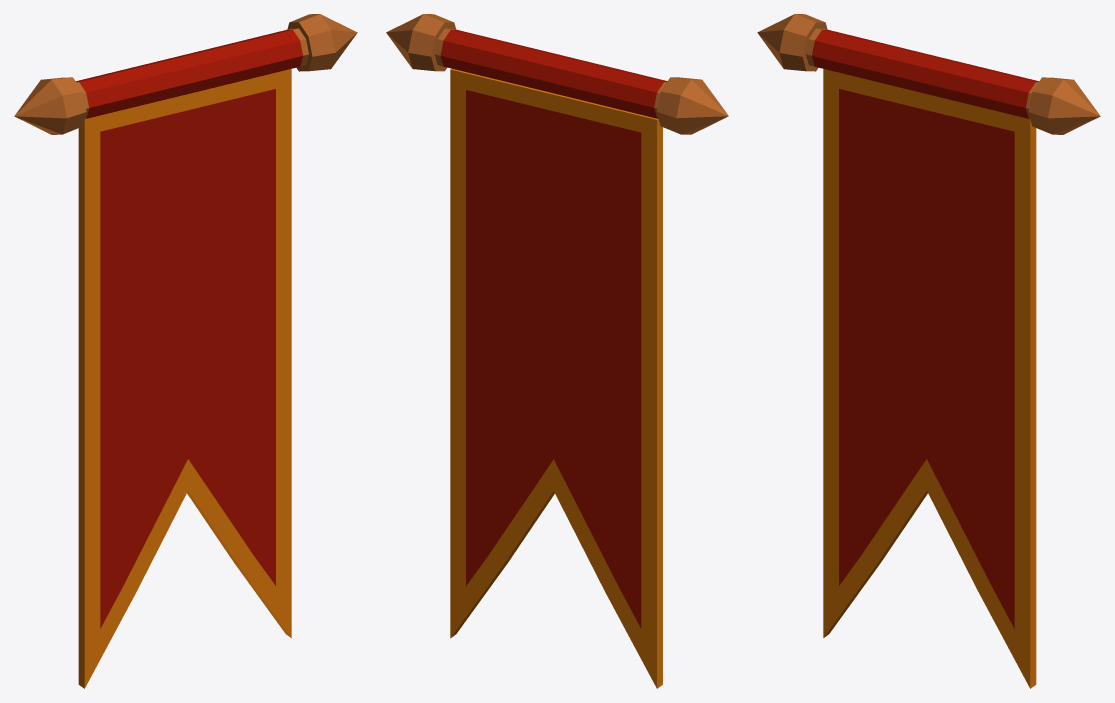
Rendered from Bandeira.fbx.
The picture shows the model from 3 angles, left to right: view 1: azimuth 30°, elevation 25°; view 2: azimuth 150°, elevation 25°; view 3: azimuth 330°, elevation 25°; orthographic projection.
Parts seen in each view (by area): view 1: Bandeira; view 2: Bandeira; view 3: Bandeira.
Boxes of the visible parts, left/top/right/bottom form: Bandeira: left=14, top=14, right=357, bottom=688; Bandeira: left=386, top=14, right=728, bottom=688; Bandeira: left=757, top=14, right=1100, bottom=688.
Bounding box in the file's own units: 44.79 × 76.65 × 6.9.
1 material, 1 textured.
